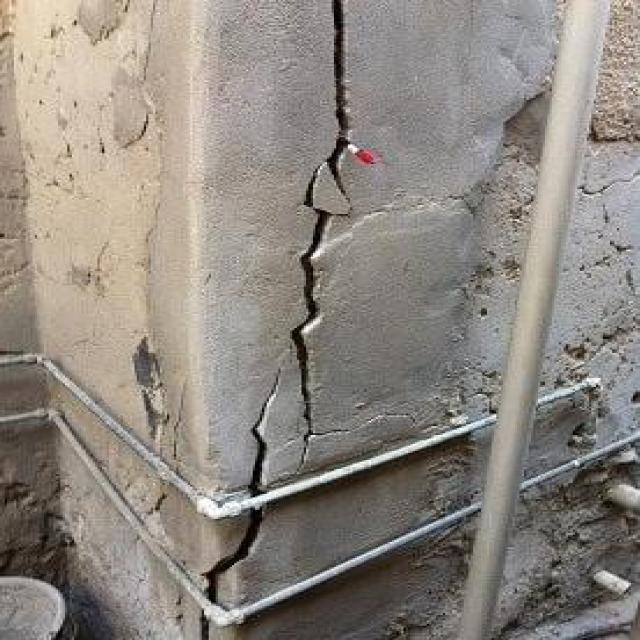crack: (287, 2, 355, 438), (208, 371, 283, 609)
